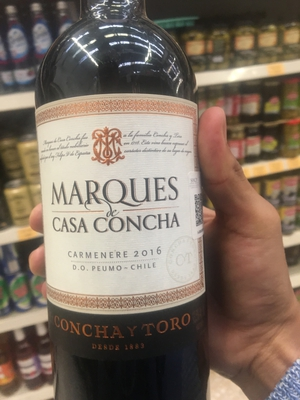marques de casa concha carmenere: (30, 29, 220, 390)
